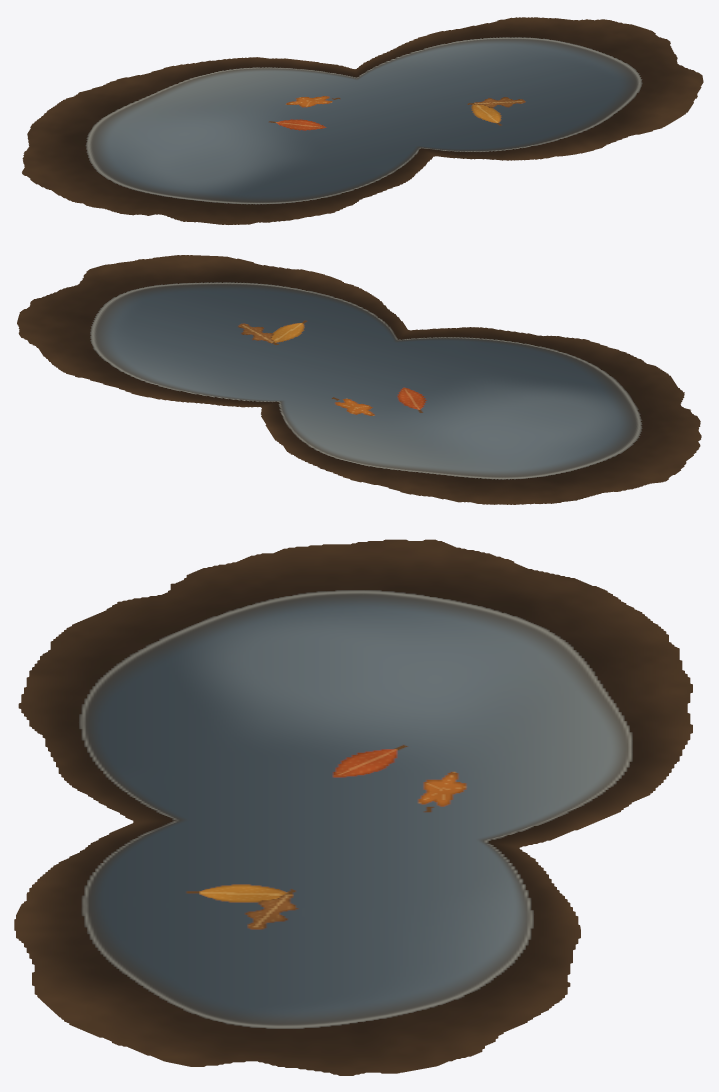
Rendered from fm_puddle_rain_medium.glb.
3 renders of one model, top to bottom at view 1: azimuth 30°, elevation 25°; view 2: azimuth 150°, elevation 25°; view 3: azimuth 270°, elevation 25°, orthographic. The views are drawn at different scales.
Parts seen in each view (by area): view 1: fm_puddle_rain_medium; view 2: fm_puddle_rain_medium; view 3: fm_puddle_rain_medium.
Part boxes in pixels (x1=…): fm_puddle_rain_medium: x1=22, y1=17, x2=703, y2=224; fm_puddle_rain_medium: x1=17, y1=255, x2=701, y2=504; fm_puddle_rain_medium: x1=14, y1=539, x2=692, y2=1075.
Size of the model in its own units: 1.39 by 0 by 0.7454.
Materials: 1 (1 with a texture image).
